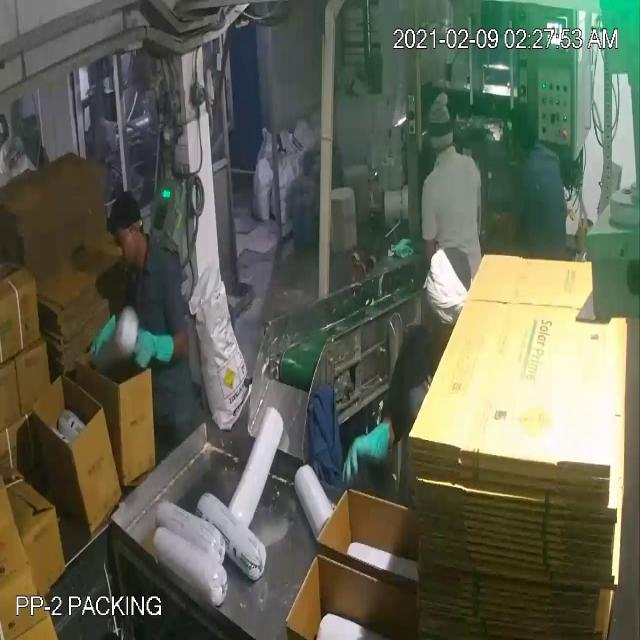gloves: (332, 415, 402, 498), (129, 320, 179, 376), (85, 309, 119, 360)
